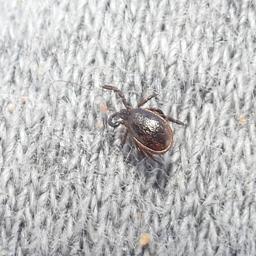Ixodes scapularis: (102, 84, 186, 165)
